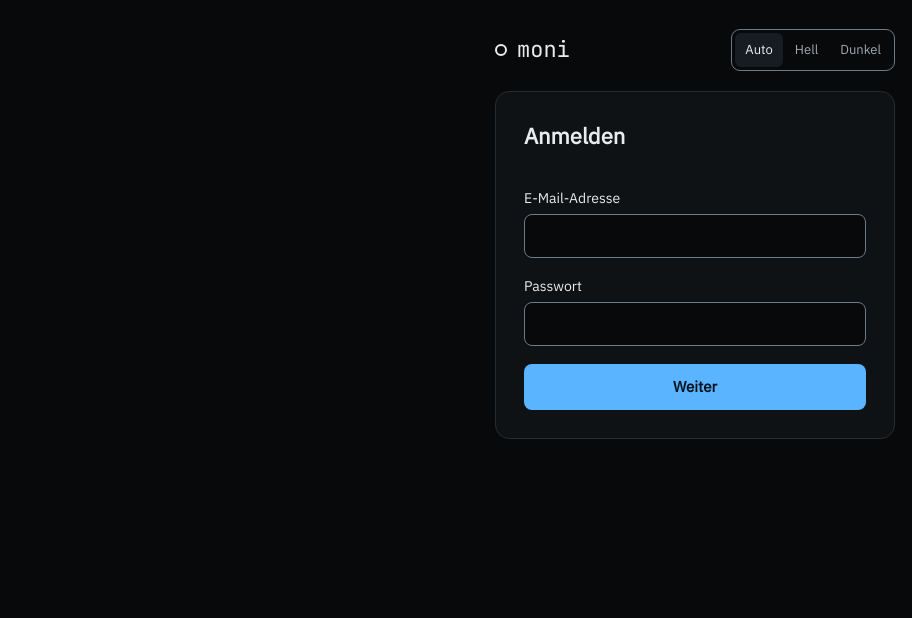
Test: Login › das Rücksprungziel bleibt über den zweiten Faktor erhalten
The image size is (912, 618).
In the field labelled "E-Mail-Adresse": point(695, 236) [524,214,866,258], type "robin@example.test"
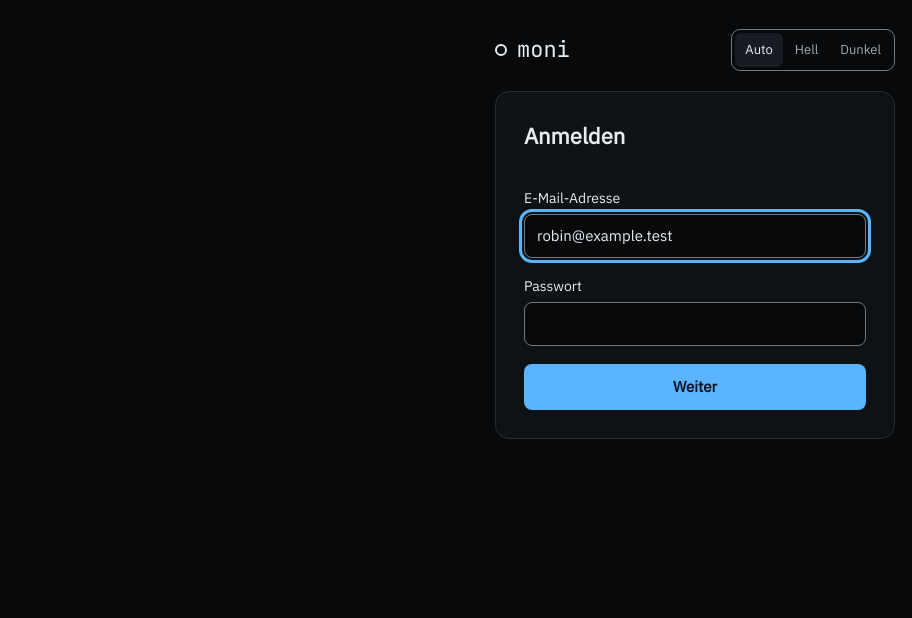
In the password field labelled "Passwort": point(695, 324) [524,302,866,346], type "geheim-1234"
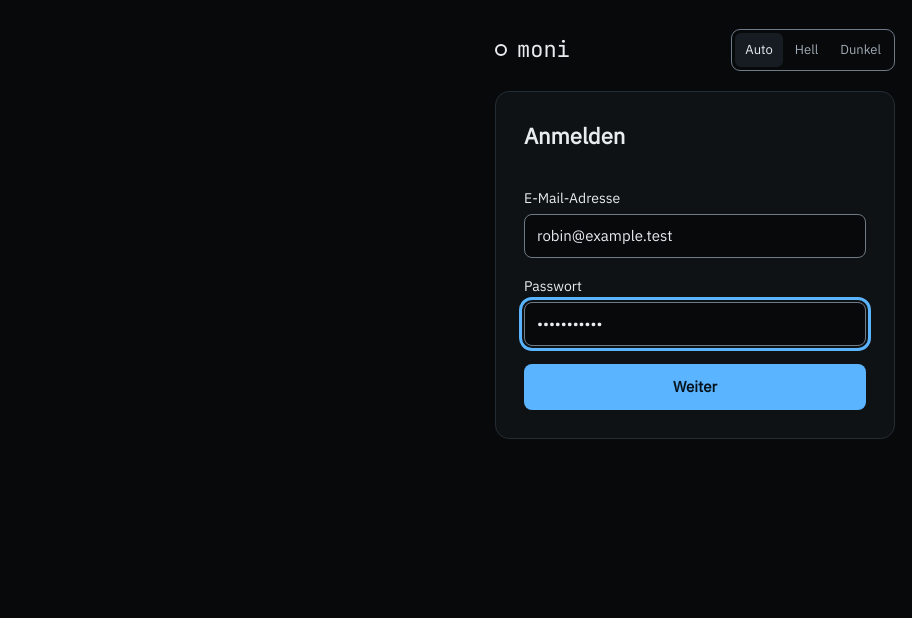
Click the button "Weiter": point(695, 387) [524,364,866,410]
(page scrolled)
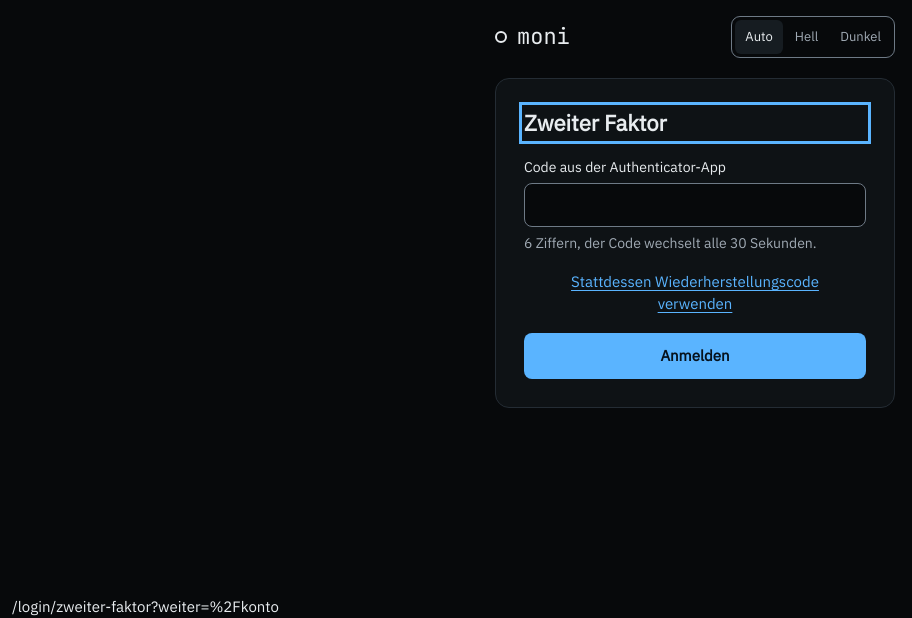
Result: the text with test id "ort" reads "/login/zweiter-faktor?weiter=%2Fkonto" at [12,597,279,616]
